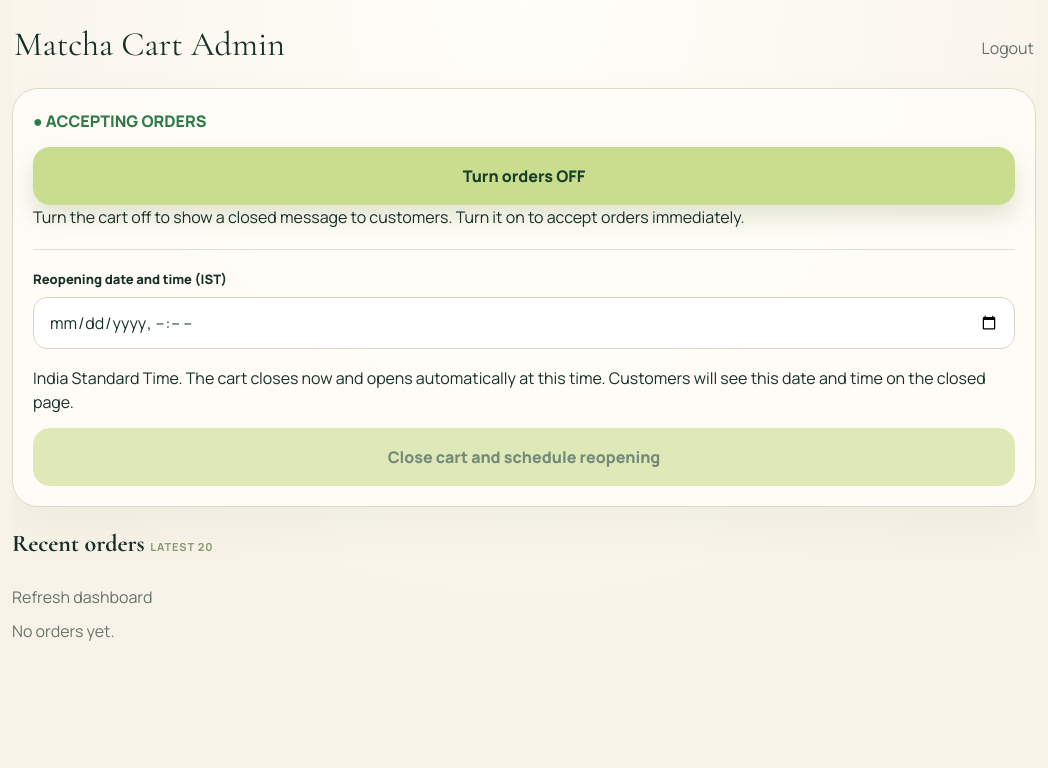
it: admin dashboard › does not pretend logout succeeded when the server rejects it
Expected: the button "Turn orders OFF" is shown, [33,147,1015,205]
Click the button "Logout" at [1008, 48], box [982,26,1034,70]
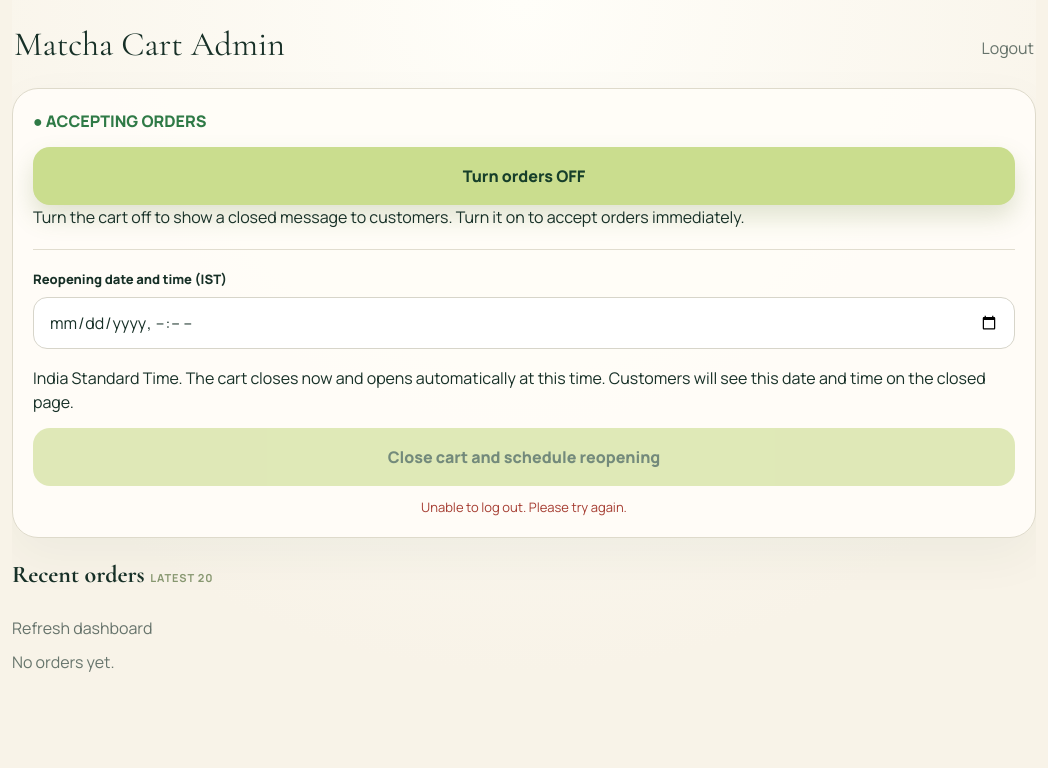
Now the text "Unable to log out. Please try again." is shown, box [421,498,627,516]
